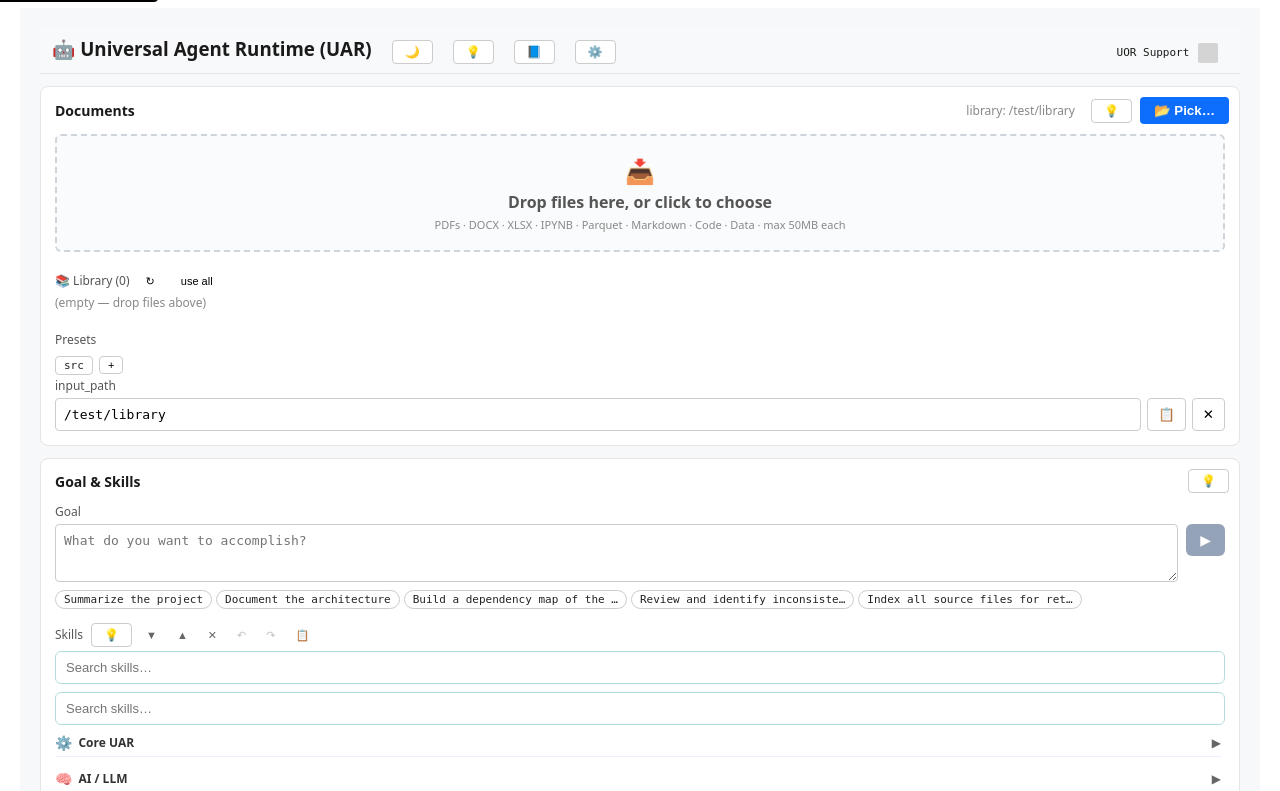
Test: UARPanel › Presets Functionality › should select preset path on click
The image size is (1280, 791).
Click the button "src".
click(74, 366)  # box [55, 356, 93, 375]
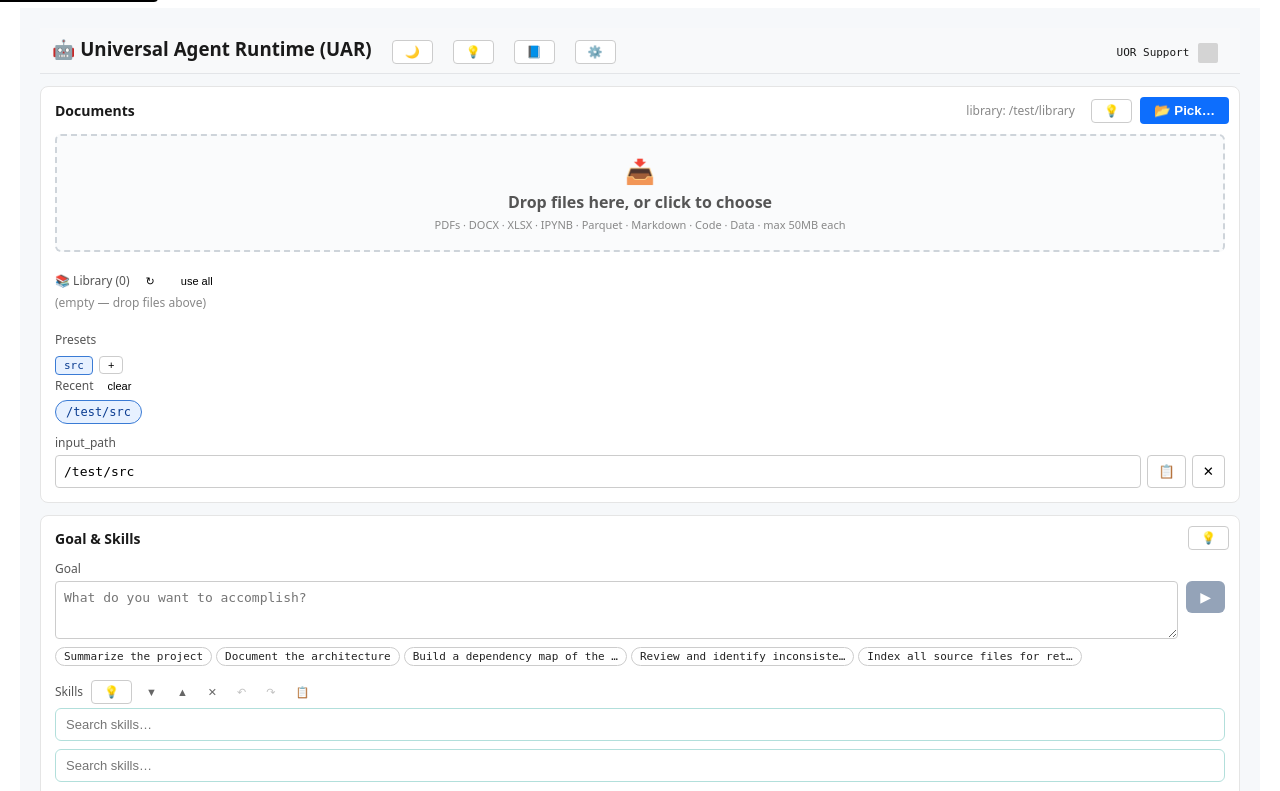
Check: the field showing "/test/src" is shown, box [55, 455, 1141, 488]
